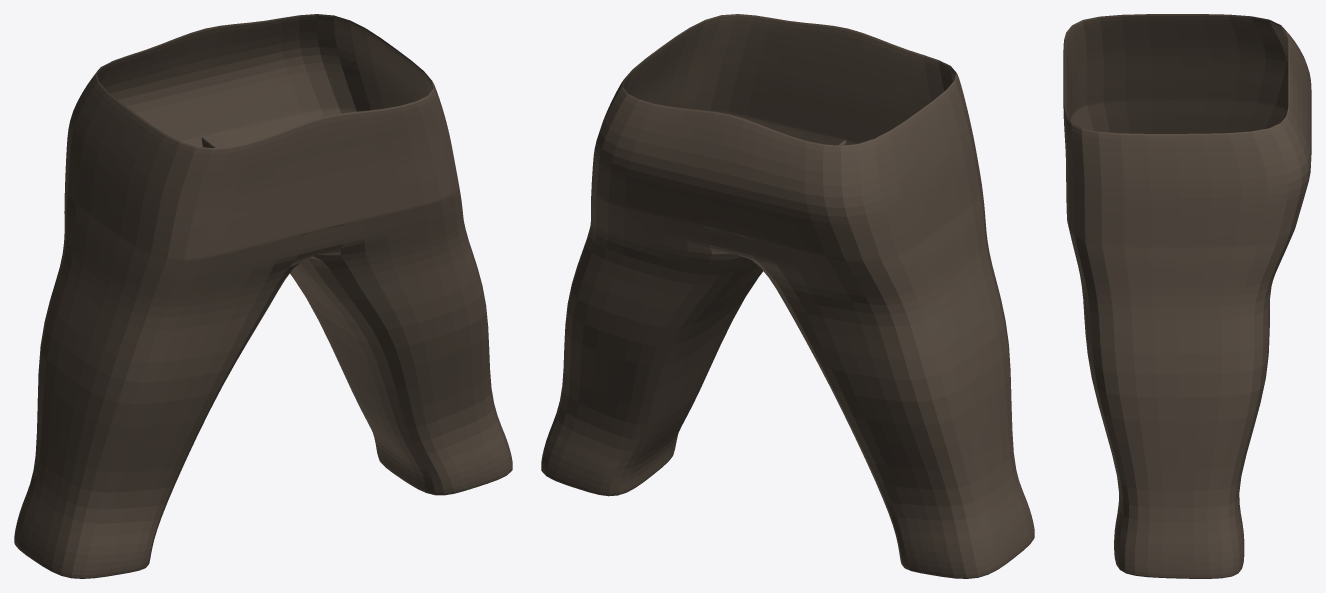
File: Bottom 1.fbx
3 renders of one model, left to right at view 1: azimuth 30°, elevation 25°; view 2: azimuth 150°, elevation 25°; view 3: azimuth 270°, elevation 25°, orthographic. The views are drawn at different scales.
Visible parts, largest first — view 1: Bottom 1; view 2: Bottom 1; view 3: Bottom 1.
Part boxes in pixels (box(x1,y1,x2,y2)): Bottom 1: box(14, 14, 512, 578); Bottom 1: box(541, 14, 1034, 578); Bottom 1: box(1063, 14, 1311, 578).
Bounding box in the file's own units: 122 × 112 × 60.82.
